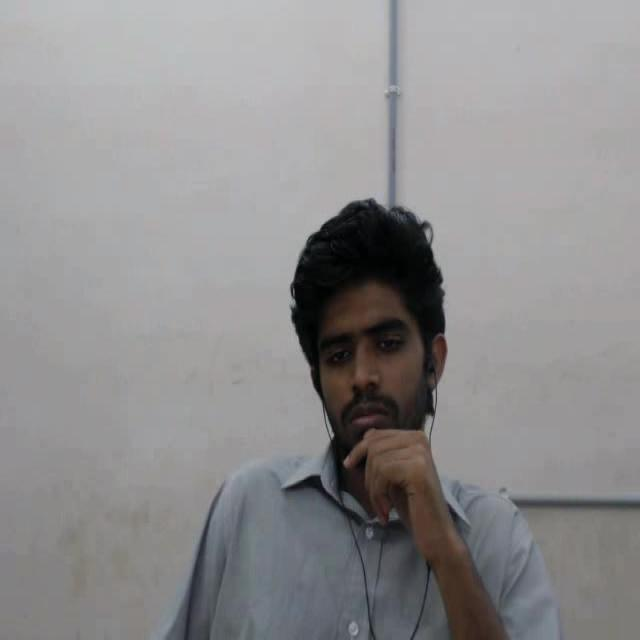Bored: (261, 165, 490, 530)
